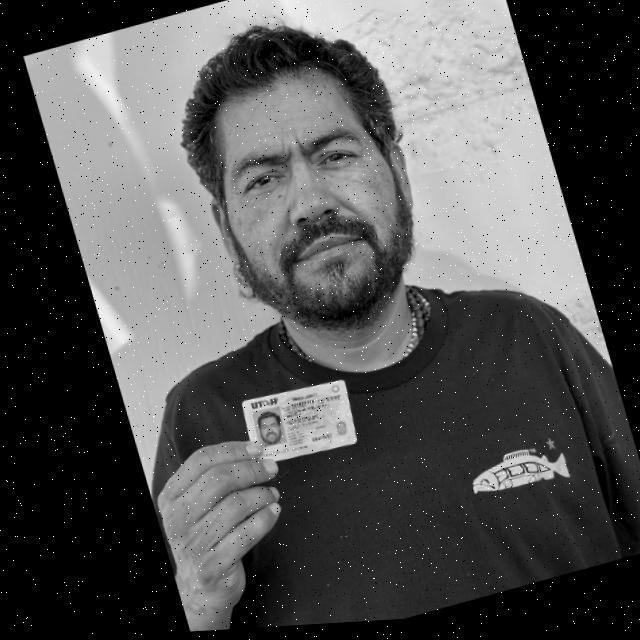card: (243, 381, 356, 461)
